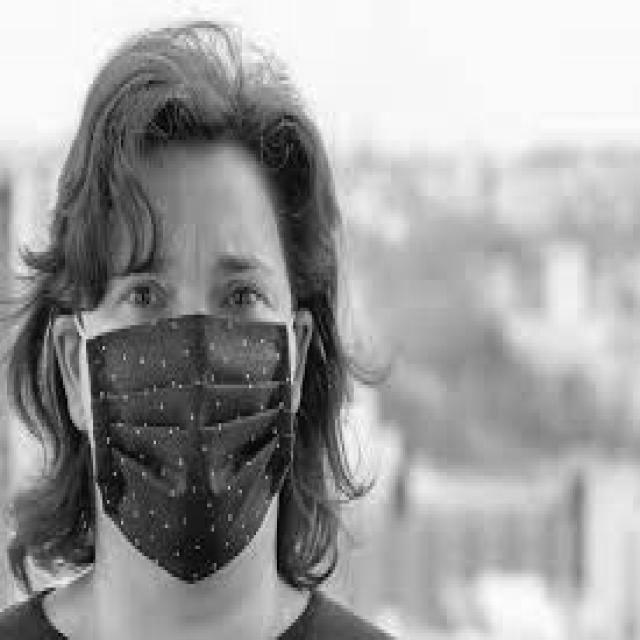fake: (89, 315, 302, 589)
real: (82, 137, 299, 594)
